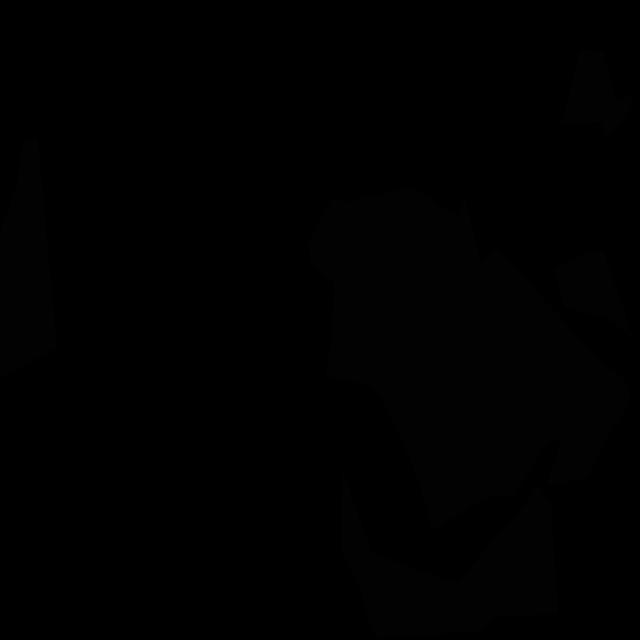cardboard: (308, 187, 631, 531), (341, 467, 558, 639), (0, 136, 57, 377), (554, 251, 635, 342), (560, 49, 632, 136)
